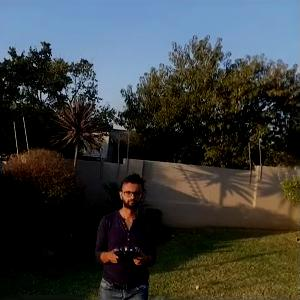follow: (90, 168, 159, 299)
